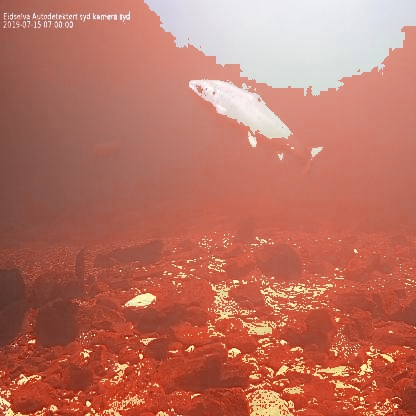salmon: (187, 74, 328, 178)
